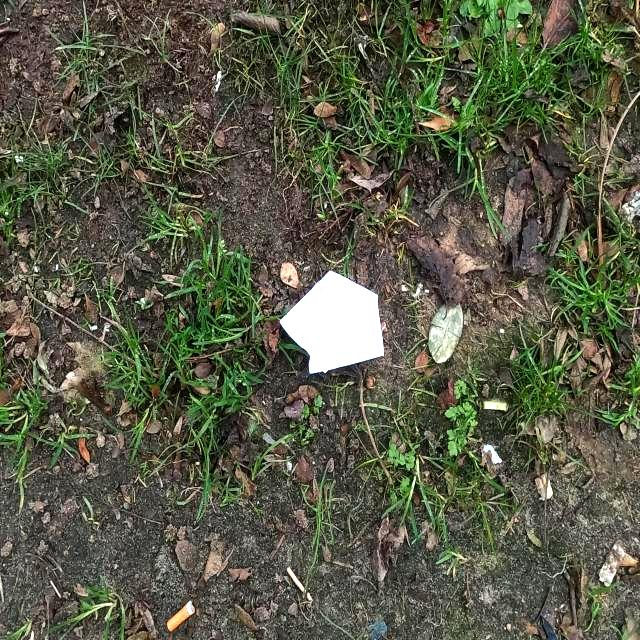Paper: (278, 268, 386, 376)
